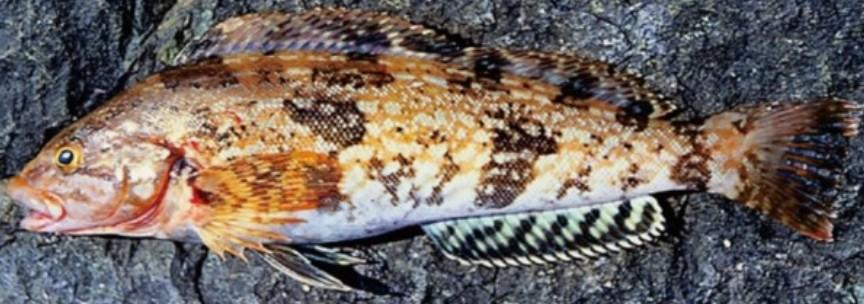fish: (7, 8, 860, 290)
